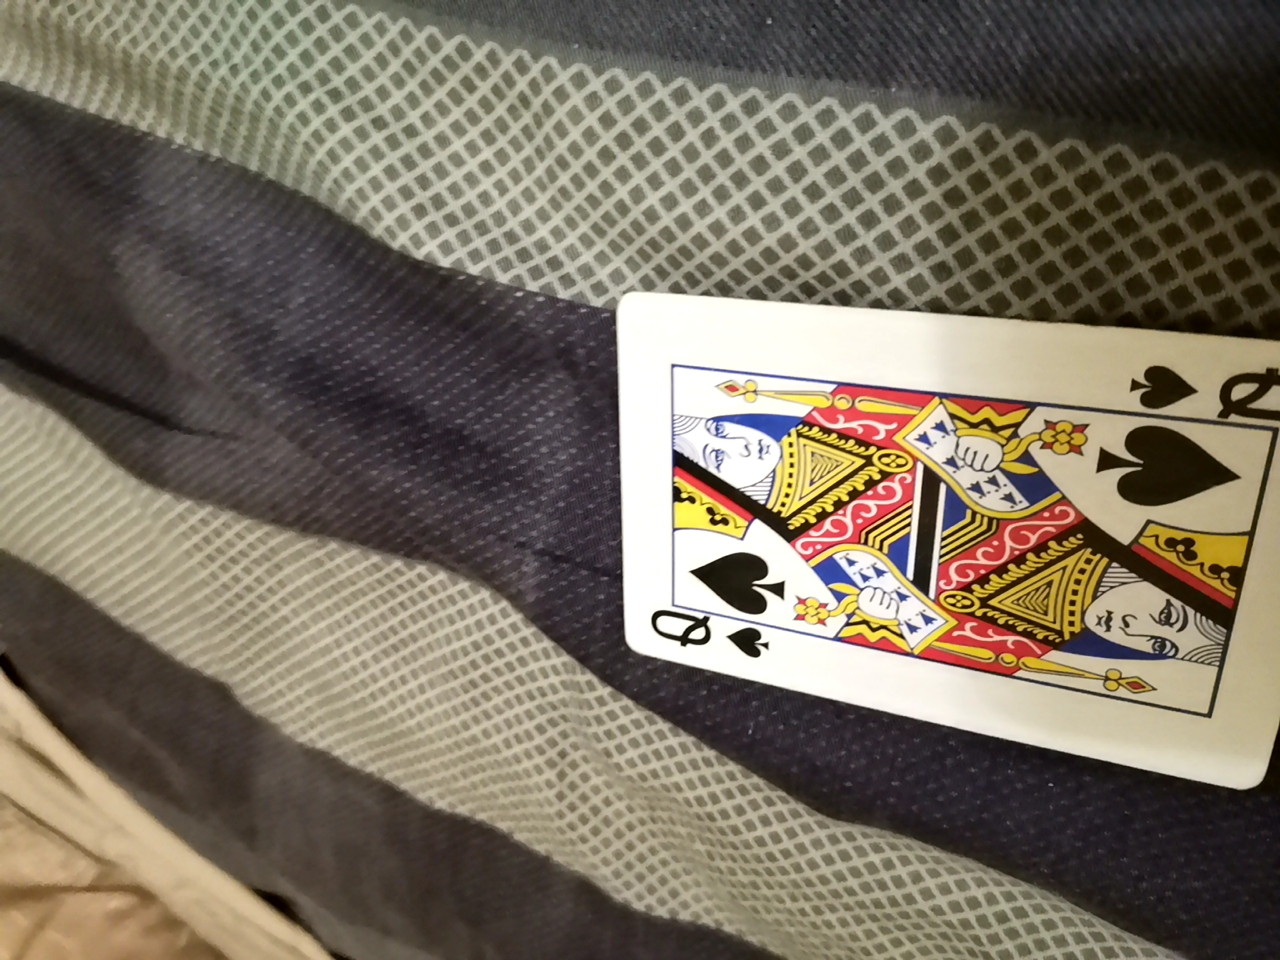ht q: (592, 305, 1267, 812)
